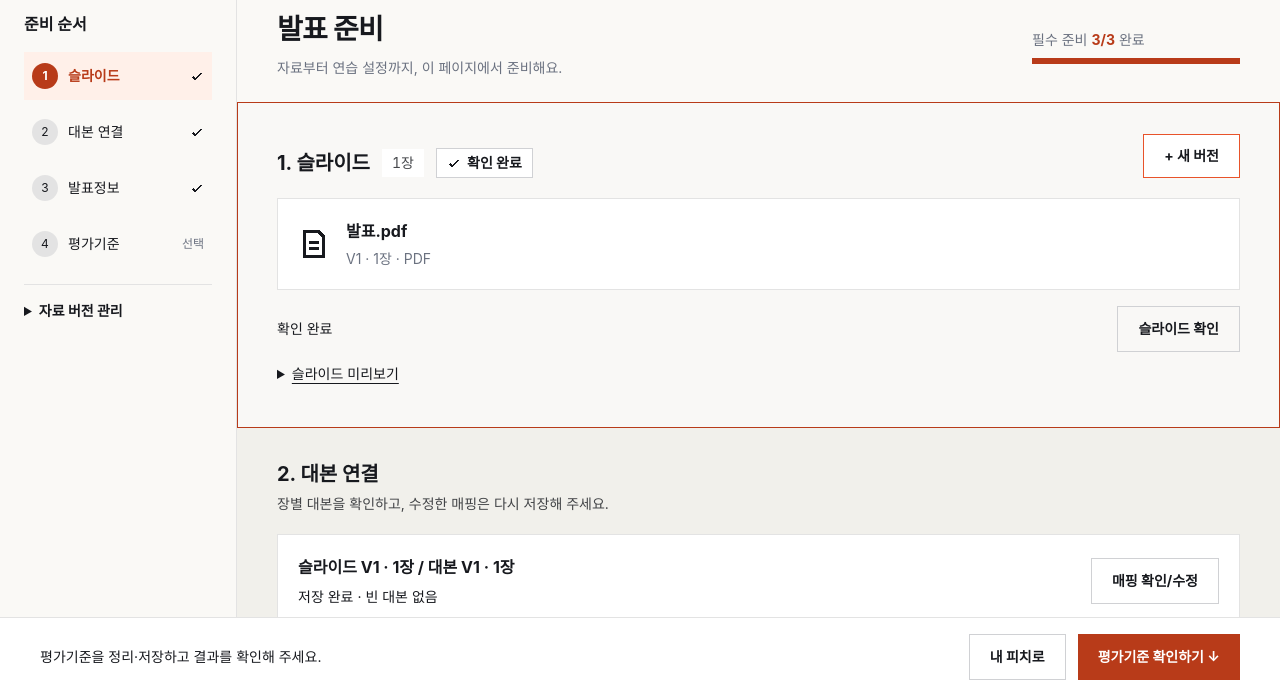
Scenario: 평가기준 원문을 고친 채 다른 버전이 생겨도 고치던 원문으로 돌아갈 수 있다
Click the button "평가기준 확인하기 ↓" at (1159, 657), box [1078,634,1240,680]
(page scrolled)
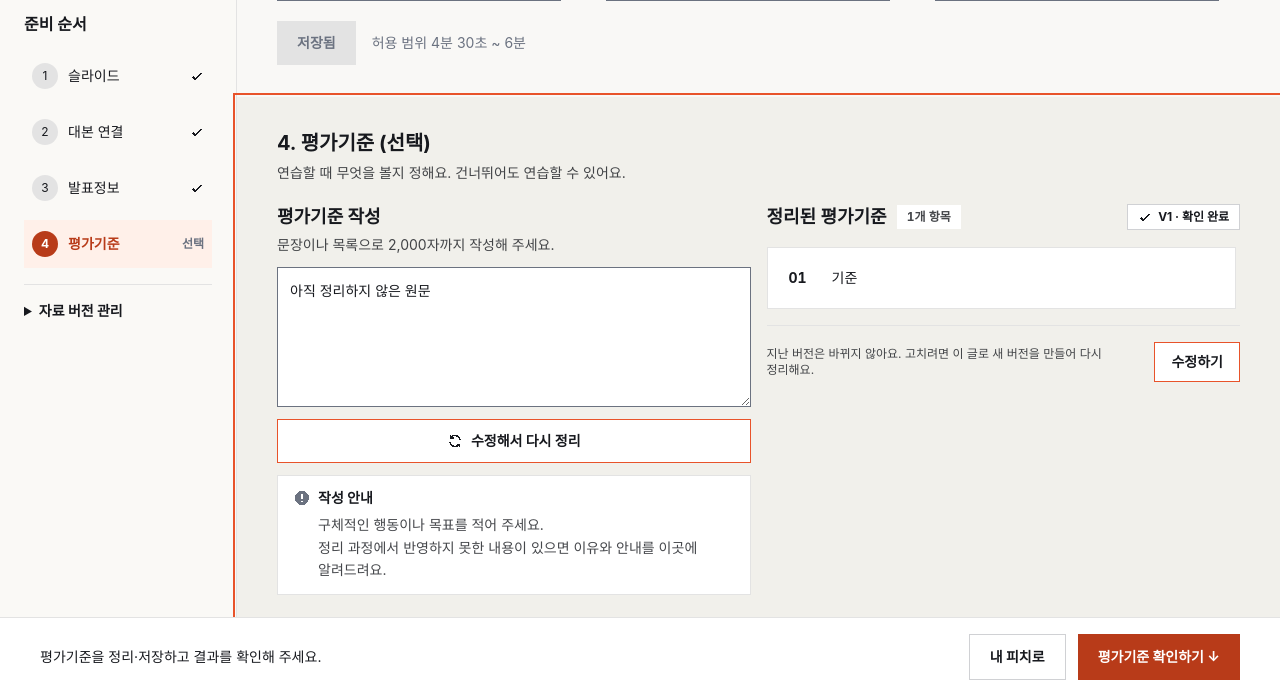
Check: the text box named "평가기준 작성" holds "아직 정리하지 않은 원문", box [277,267,750,407]
